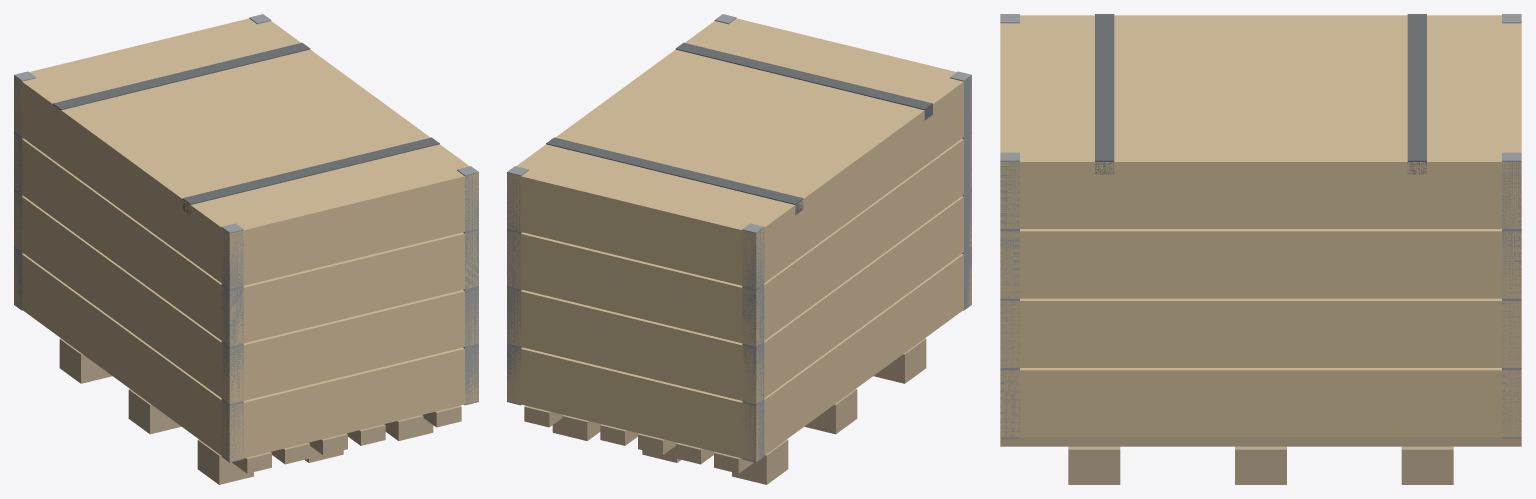
The model's file is unit_game_woodcrate_1200x800x850_850kg_v14.glb.
3 views of the same model, side by side, from view 1: azimuth 30°, elevation 25°; view 2: azimuth 150°, elevation 25°; view 3: azimuth 270°, elevation 25° (orthographic). The views are drawn at different scales.
Visible parts, largest first — view 1: WOOD850_PLANK_3, WOOD850_PLANK_2, WOOD850_PLANK_1, WOOD850_PLANK_0, WOOD850_CORNER_-0.3775_0.5775, WOOD850_CORNER_0.3775_0.5775, WOOD850_BAND_2, WOOD850_BAND_1, WOOD850_CORNER_-0.3775_-0.5775, WOOD850_PB_-0.288_0.384, WOOD850_PB_-0.288_0, WOOD850_PB_-0.288_-0.384 (+6 smaller); view 2: WOOD850_PLANK_3, WOOD850_PLANK_0, WOOD850_PLANK_2, WOOD850_PLANK_1, WOOD850_CORNER_-0.3775_-0.5775, WOOD850_CORNER_0.3775_-0.5775, WOOD850_BAND_2, WOOD850_BAND_1, WOOD850_CORNER_-0.3775_0.5775, WOOD850_PB_-0.288_-0.384, WOOD850_PB_-0.288_0, WOOD850_PB_-0.288_0.384 (+6 smaller); view 3: WOOD850_PLANK_3, WOOD850_PLANK_0, WOOD850_PLANK_2, WOOD850_PLANK_1, WOOD850_PT_0.30, WOOD850_CORNER_0.3775_0.5775, WOOD850_BAND_2, WOOD850_BAND_1, WOOD850_CORNER_0.3775_-0.5775, WOOD850_PB_0.288_-0.384, WOOD850_PB_0.288_0.384, WOOD850_PB_0.288_0.
Boxes of the visible parts, <box> form: WOOD850_PLANK_3: <box>14,18,478,288</box>; WOOD850_PLANK_2: <box>14,134,478,346</box>; WOOD850_PLANK_1: <box>14,191,478,404</box>; WOOD850_PLANK_0: <box>14,249,478,461</box>; WOOD850_CORNER_-0.3775_0.5775: <box>221,223,243,462</box>; WOOD850_CORNER_0.3775_0.5775: <box>457,166,478,405</box>; WOOD850_BAND_2: <box>182,137,439,214</box>; WOOD850_BAND_1: <box>53,42,310,113</box>; WOOD850_CORNER_-0.3775_-0.5775: <box>14,71,35,310</box>; WOOD850_PB_-0.288_0.384: <box>197,439,253,484</box>; WOOD850_PB_-0.288_0: <box>128,389,181,434</box>; WOOD850_PB_-0.288_-0.384: <box>59,338,112,383</box>; WOOD850_PLANK_3: <box>507,18,971,288</box>; WOOD850_PLANK_0: <box>507,250,971,461</box>; WOOD850_PLANK_2: <box>507,133,971,346</box>; WOOD850_PLANK_1: <box>507,192,971,404</box>; WOOD850_CORNER_-0.3775_-0.5775: <box>742,223,764,462</box>; WOOD850_CORNER_0.3775_-0.5775: <box>507,166,528,405</box>; WOOD850_BAND_2: <box>675,42,932,120</box>; WOOD850_BAND_1: <box>546,137,803,214</box>; WOOD850_CORNER_-0.3775_0.5775: <box>950,71,971,310</box>; WOOD850_PB_-0.288_-0.384: <box>732,439,788,484</box>; WOOD850_PB_-0.288_0: <box>804,389,857,434</box>; WOOD850_PB_-0.288_0.384: <box>873,338,926,383</box>; WOOD850_PLANK_3: <box>1000,15,1521,228</box>; WOOD850_PLANK_0: <box>1000,368,1521,437</box>; WOOD850_PLANK_2: <box>1000,229,1521,298</box>; WOOD850_PLANK_1: <box>1000,298,1521,367</box>; WOOD850_PT_0.30: <box>1000,437,1521,446</box>; WOOD850_CORNER_0.3775_0.5775: <box>1000,152,1019,438</box>; WOOD850_BAND_2: <box>1095,14,1114,174</box>; WOOD850_BAND_1: <box>1407,14,1426,174</box>; WOOD850_CORNER_0.3775_-0.5775: <box>1502,152,1521,438</box>; WOOD850_PB_0.288_-0.384: <box>1401,446,1453,484</box>; WOOD850_PB_0.288_0.384: <box>1068,446,1120,484</box>; WOOD850_PB_0.288_0: <box>1235,446,1286,484</box>.
Size of the model in its own units: 0.8 by 0.85 by 1.2.
